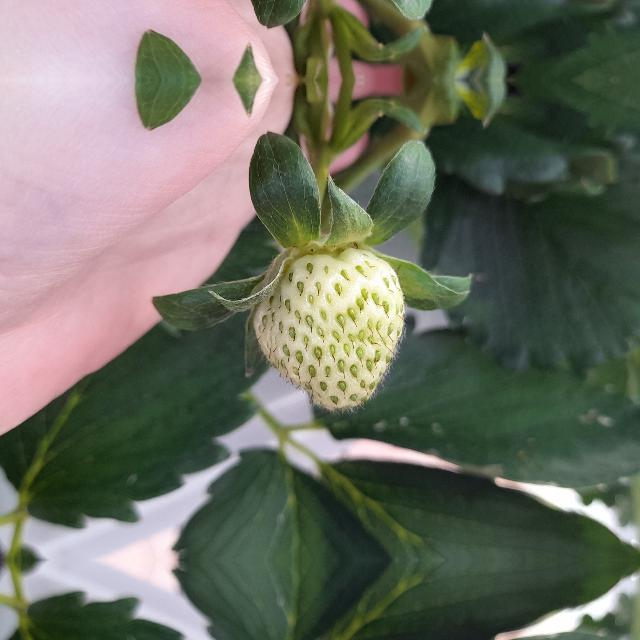Health_25: (252, 246, 406, 410)
